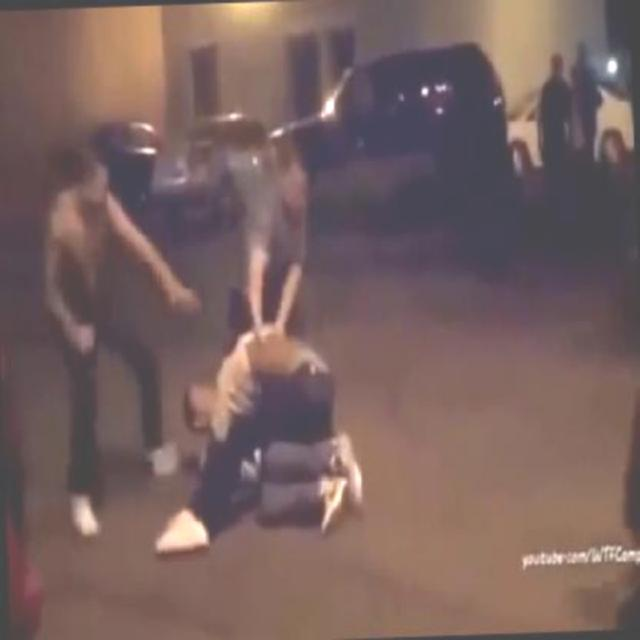fight: (156, 140, 369, 549)
